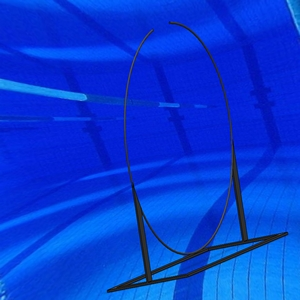circle: (107, 20, 289, 293)
